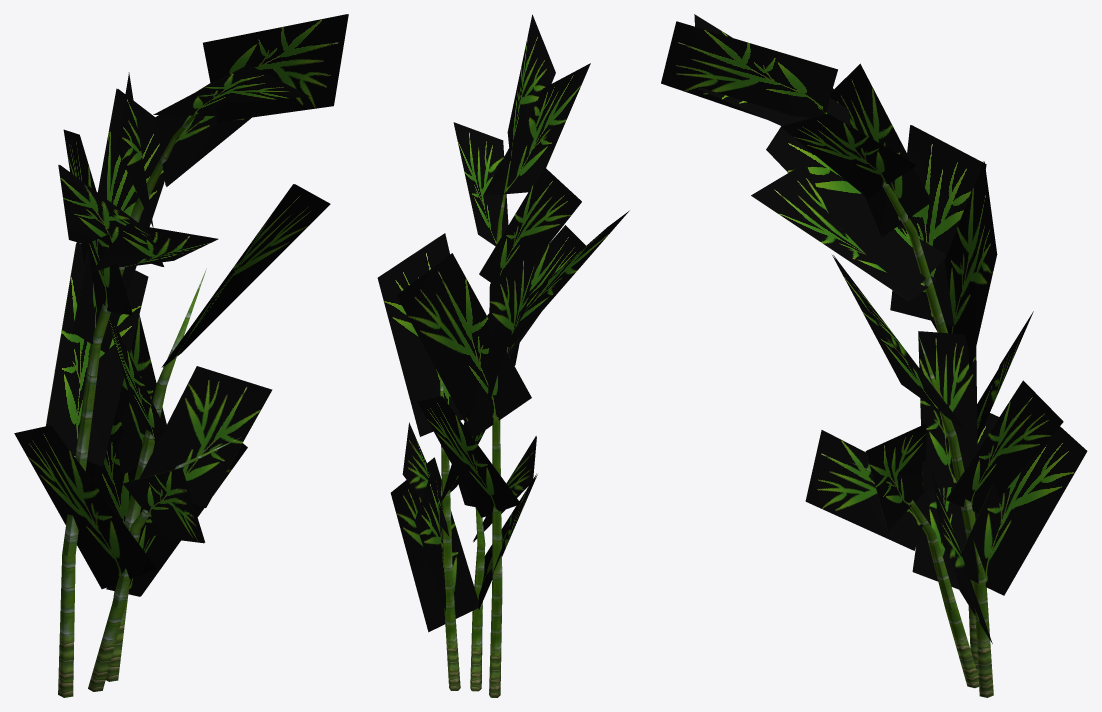
File: furni_0200825.FBX
3 renders of one model, left to right at view 1: azimuth 30°, elevation 25°; view 2: azimuth 150°, elevation 25°; view 3: azimuth 270°, elevation 25°, orthographic. The views are drawn at different scales.
Parts seen in each view (by area): view 1: furni_0200825; view 2: furni_0200825; view 3: furni_0200825.
Boxes of the visible parts, box(x1,y1,x2,y2) form: furni_0200825: box(14, 14, 348, 697); furni_0200825: box(377, 14, 629, 697); furni_0200825: box(661, 14, 1087, 697).
Size of the model in its own units: 311 by 748 by 412.
1 material, 1 textured.
